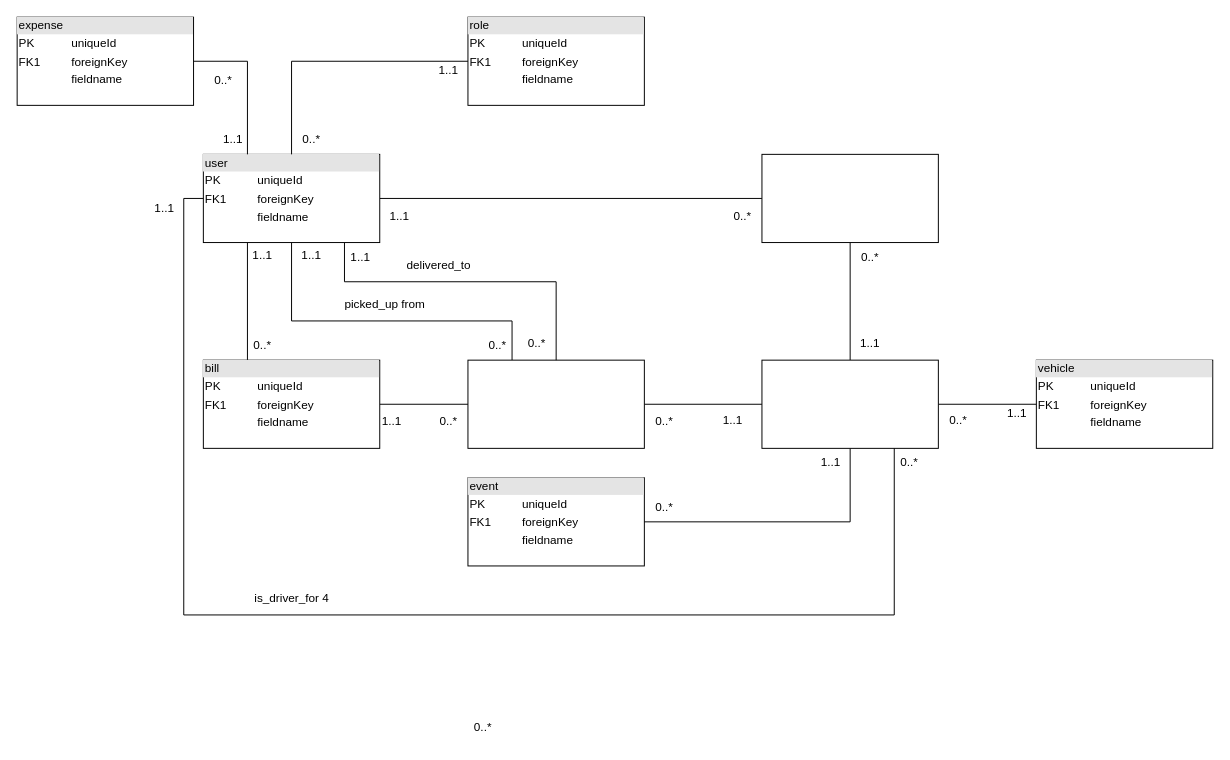
The diagram is 1230 pixels wide and 760 high, and some of its shapes have lost their labels. The shapes that lost their labels are listed below. From the top down, each one's centre as x and y in pixels, then its label:
At [849,198]: "waypoint PK uniqueId FK1 foreignKey fieldname".
At [555,403]: "item PK uniqueId FK1 foreignKey fieldname".
At [849,403]: "trip PK uniqueId FK1 foreignKey fieldname".
